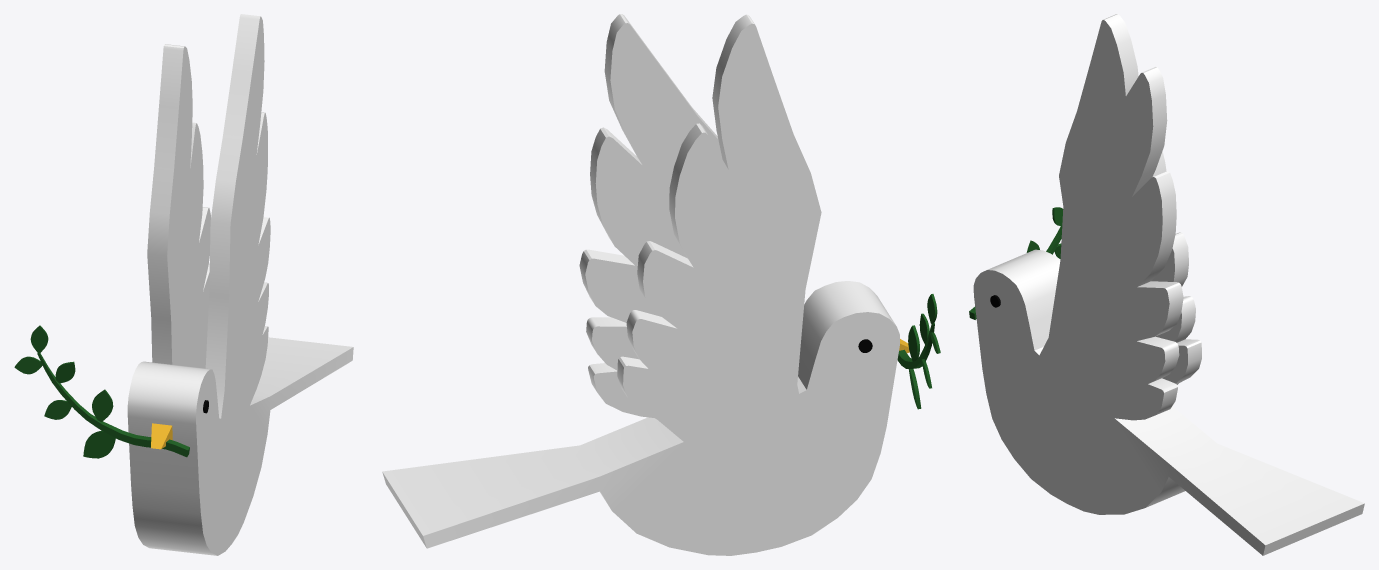
Rendered from dove.glb.
3 views of the same model, side by side, from view 1: azimuth 30°, elevation 25°; view 2: azimuth 150°, elevation 25°; view 3: azimuth 270°, elevation 25° (orthographic). The views are drawn at different scales.
Parts seen in each view (by area): view 1: Plane.154; view 2: Plane.154; view 3: Plane.154.
Boxes of the visible parts, <box> form: Plane.154: <box>14,14,353,555</box>; Plane.154: <box>382,14,940,555</box>; Plane.154: <box>969,14,1364,555</box>.
Bounding box in the file's own units: 2 × 2.19 × 1.67.
Materials: 1 (1 with a texture image).
